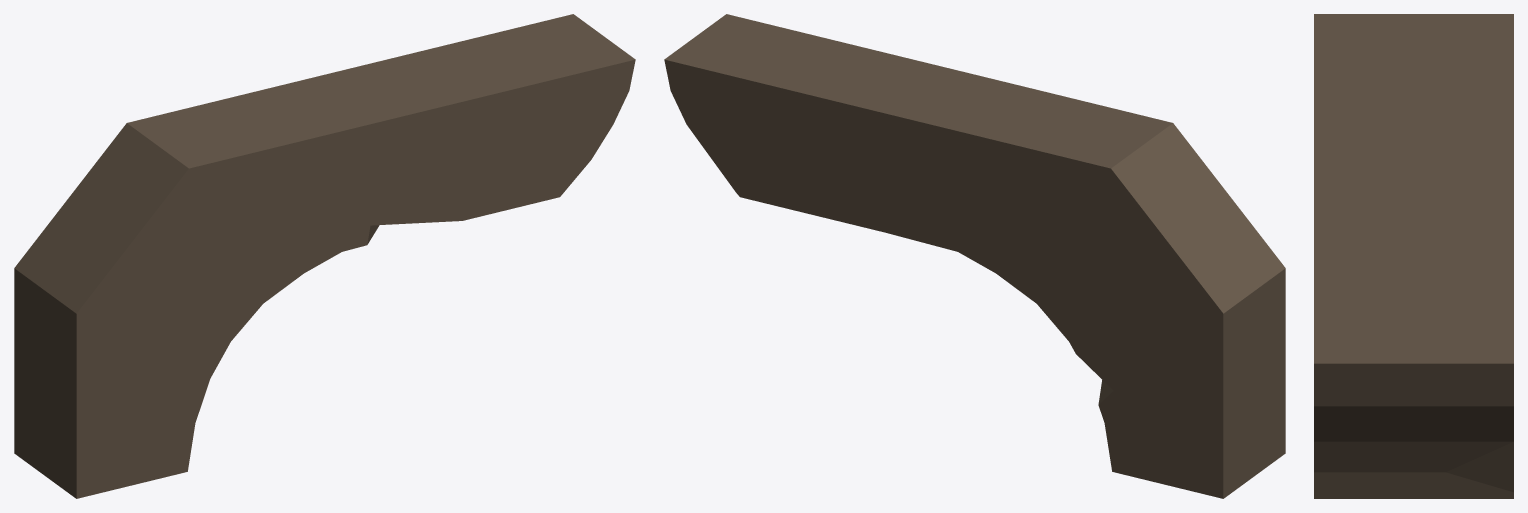
The model's file is SFHW_Reception_Pillar_Attachable.fbx.
3 views of the same model, side by side, from view 1: azimuth 30°, elevation 25°; view 2: azimuth 150°, elevation 25°; view 3: azimuth 270°, elevation 25° (orthographic). The views are drawn at different scales.
Parts seen in each view (by area): view 1: SFHW_Reception_Pillar_Attachable; view 2: SFHW_Reception_Pillar_Attachable; view 3: SFHW_Reception_Pillar_Attachable.
Part boxes in pixels (left/top/right/bottom): SFHW_Reception_Pillar_Attachable: left=14, top=14, right=635, bottom=498; SFHW_Reception_Pillar_Attachable: left=664, top=14, right=1285, bottom=498; SFHW_Reception_Pillar_Attachable: left=1314, top=14, right=1513, bottom=498.
Size of the model in its own units: 42.24 by 21.87 by 8.14.
